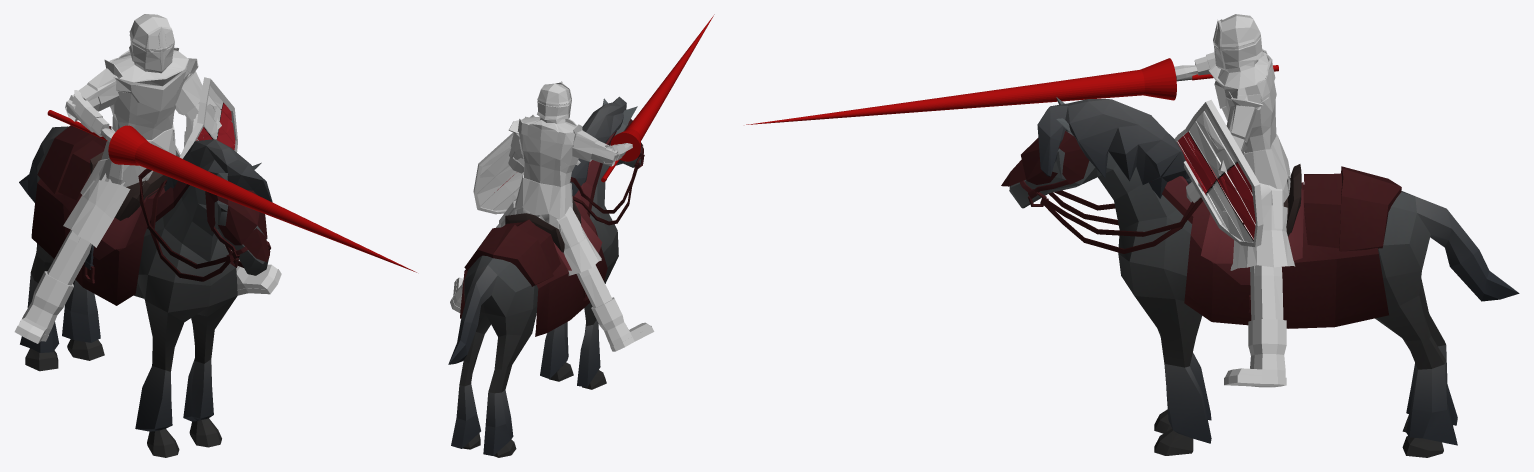
File: Front-de-Boeuf.obj
3 renders of one model, left to right at view 1: azimuth 30°, elevation 25°; view 2: azimuth 150°, elevation 25°; view 3: azimuth 270°, elevation 25°, orthographic. The views are drawn at different scales.
Parts seen in each view (by area): view 1: Knight; view 2: Knight; view 3: Knight.
Boxes of the visible parts, left/top/right/bottom form: Knight: left=14, top=14, right=416, bottom=457; Knight: left=448, top=14, right=714, bottom=457; Knight: left=746, top=14, right=1519, bottom=457.
Bounding box in the file's own units: 2.2 × 3.25 × 5.4.
